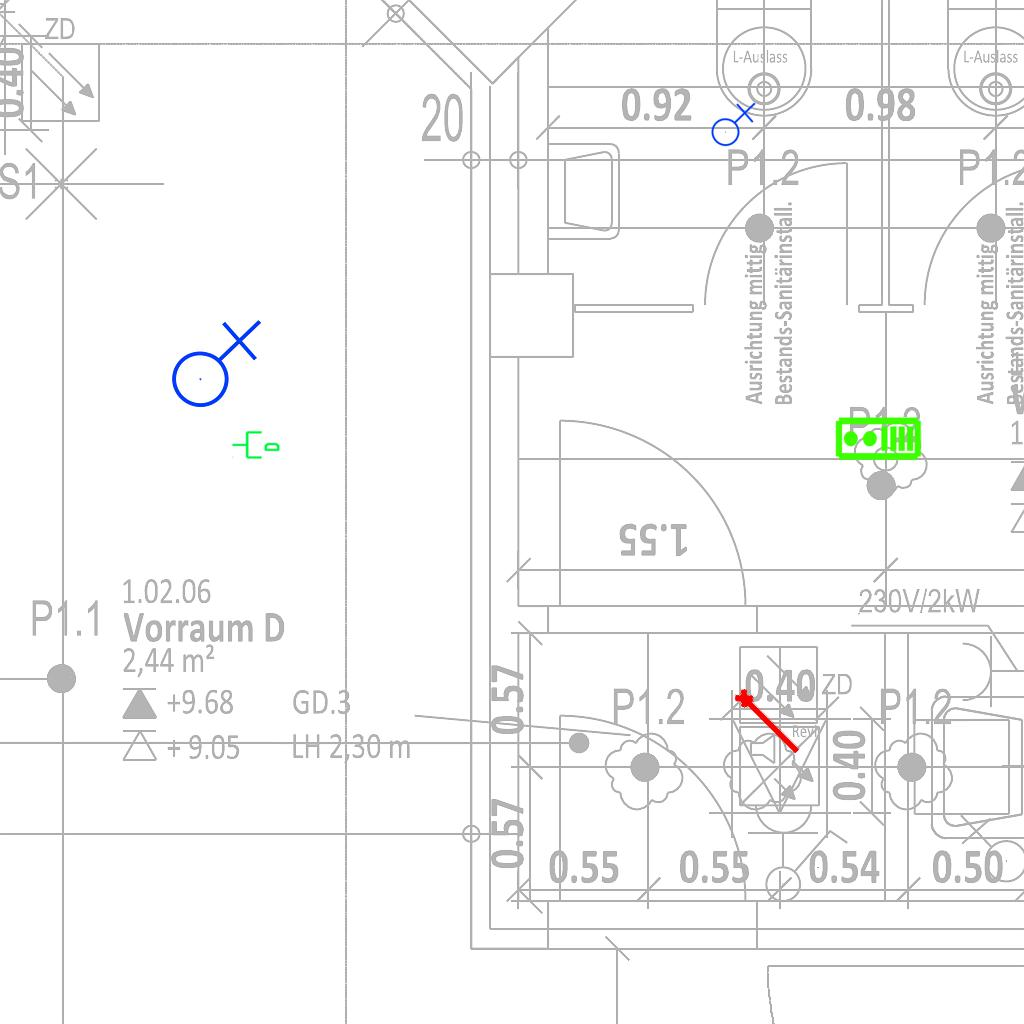ASR_Ansaugoeffnung: (729, 682, 809, 761)
Datenanschluss_einfach: (231, 427, 281, 461)
Elektroanschluss_allgemein_230V_Geraeteanschlussdose_230V: (163, 315, 262, 409), (707, 100, 756, 147)
Gegensprechanlage_mit_Video: (834, 416, 922, 463)
